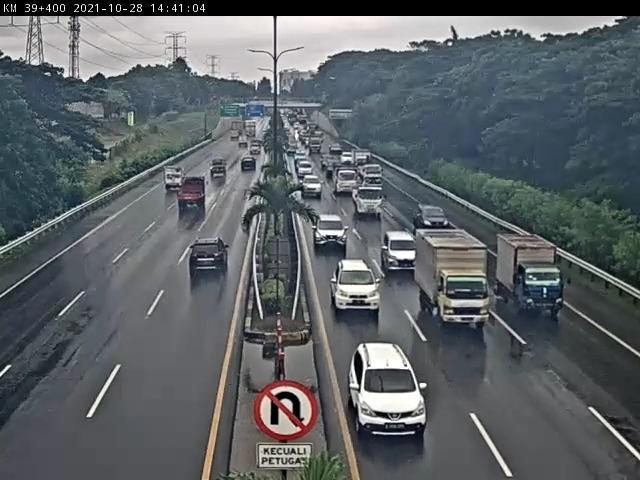car: (350, 342, 428, 440), (330, 260, 381, 315), (381, 229, 421, 275), (189, 238, 230, 274), (313, 215, 350, 252), (415, 203, 452, 229)
truck: (416, 230, 491, 333), (498, 232, 565, 315), (353, 184, 386, 219), (177, 174, 210, 208)
